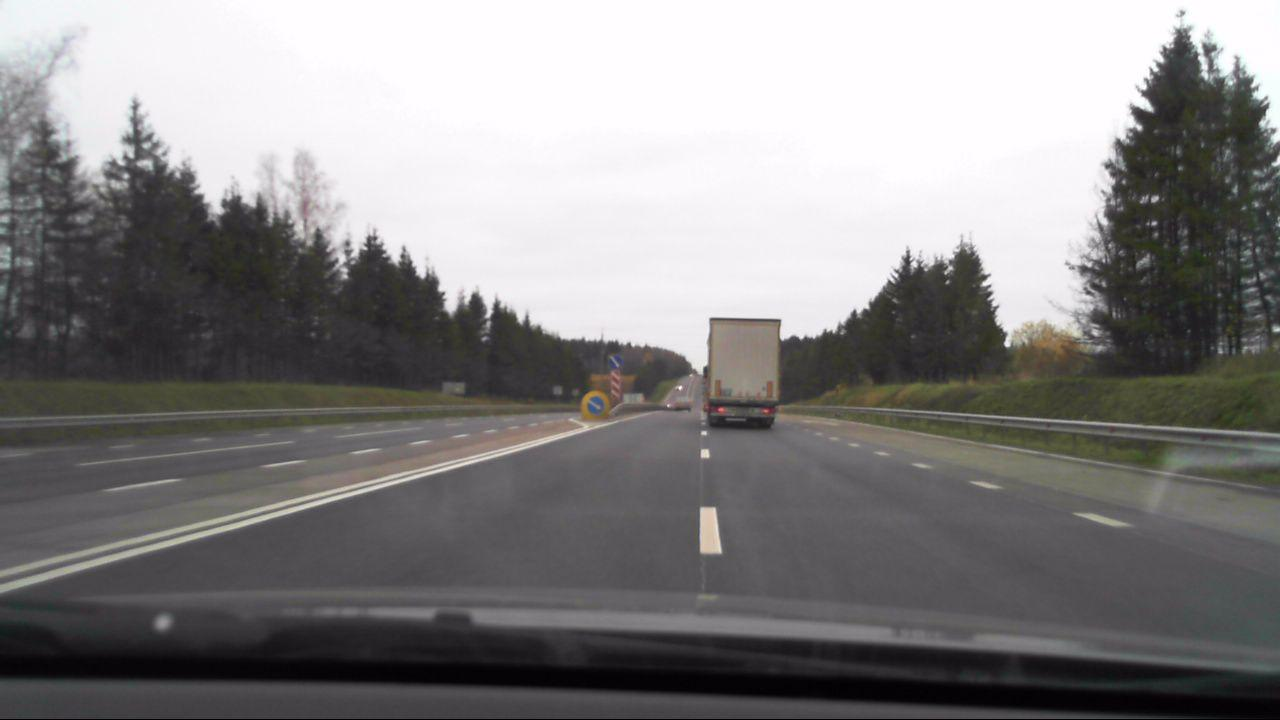4_2_1: (603, 350, 627, 371), (585, 393, 604, 414)
8_22_1: (611, 371, 621, 402)
